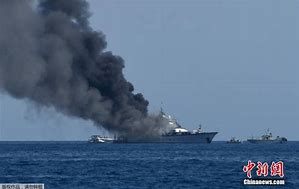smoke: (1, 1, 155, 133)
